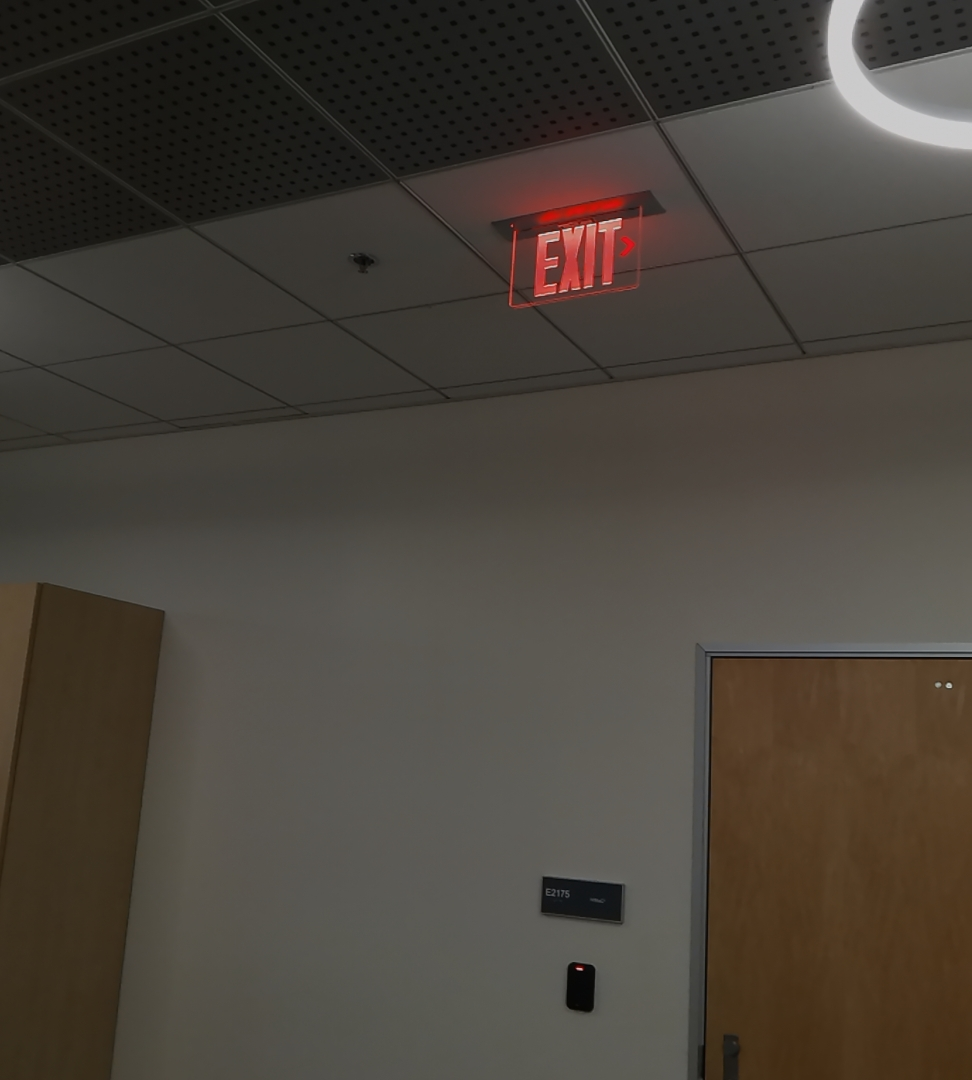emergency_exit: (504, 197, 647, 310)
